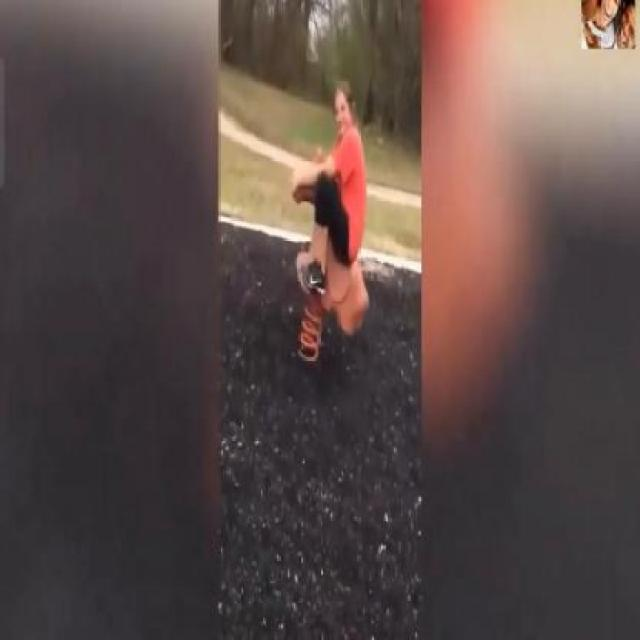fall: (295, 71, 370, 298)
